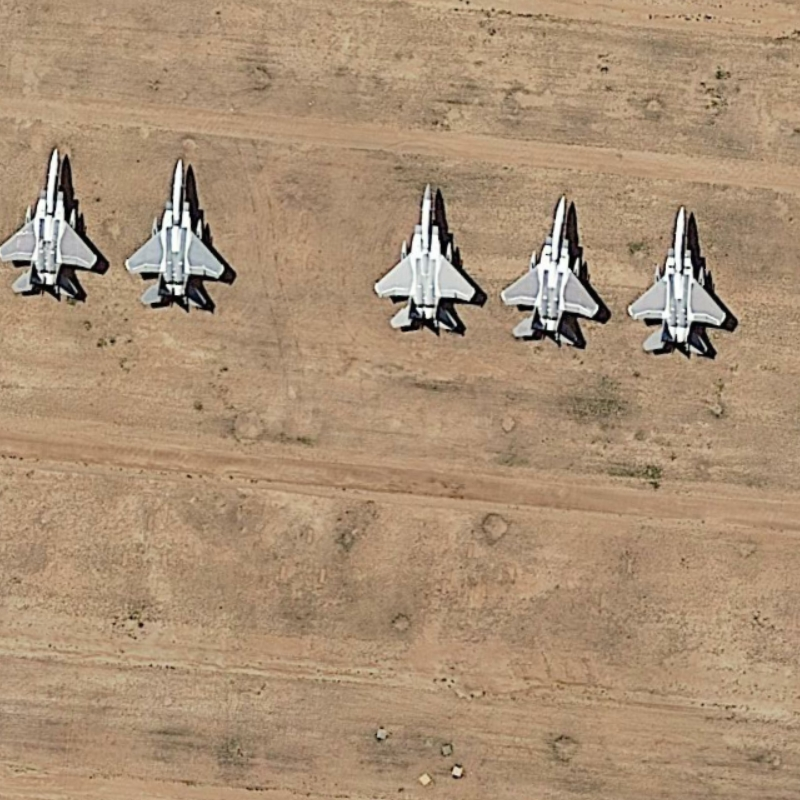A13: (121, 139, 242, 327), (366, 169, 490, 345), (499, 178, 605, 354), (624, 197, 733, 363), (3, 139, 110, 305)
